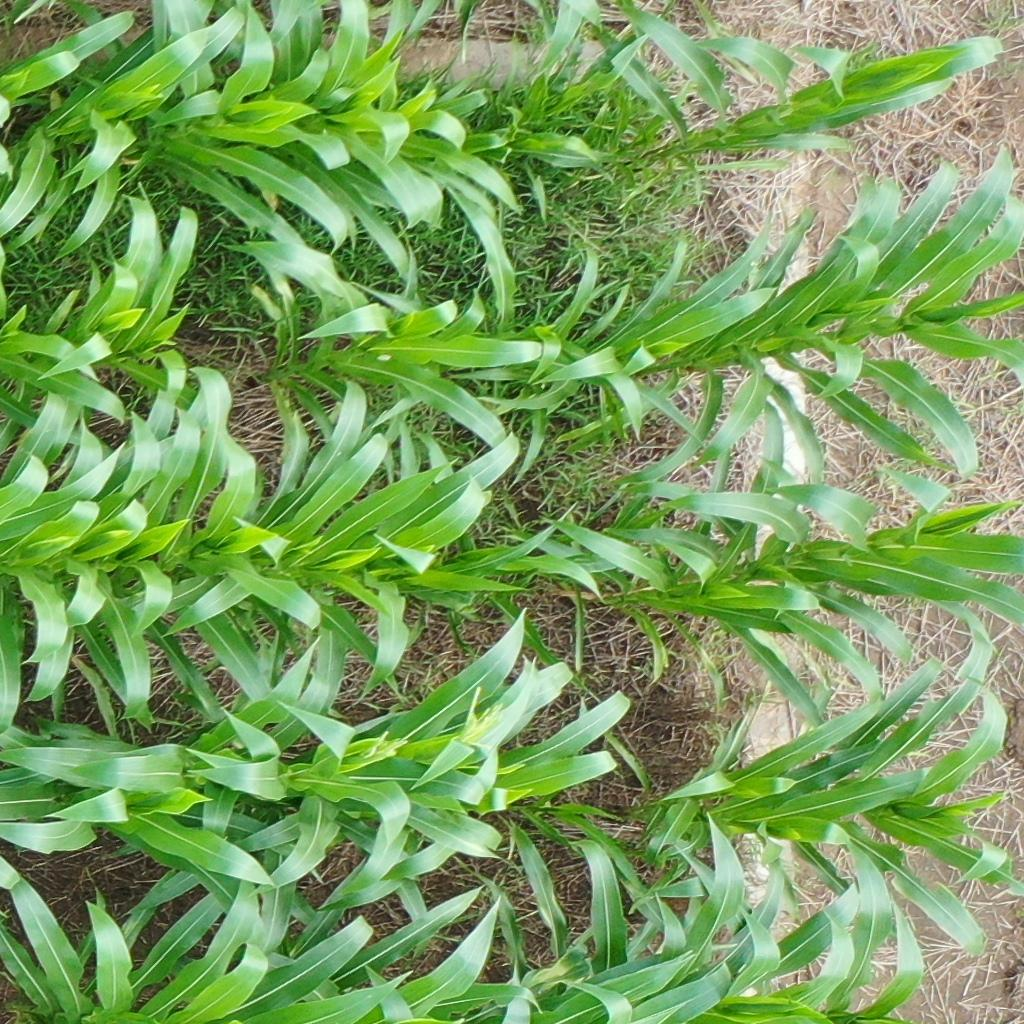Tassel: (461, 687, 504, 760), (357, 729, 408, 761)
